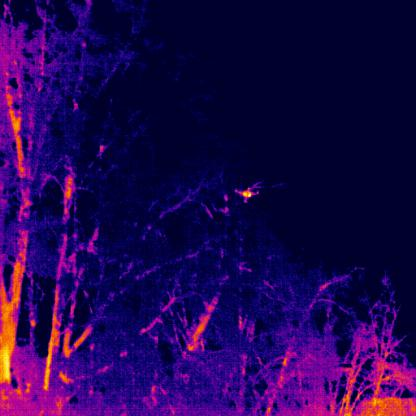drone: (234, 185, 259, 203)
